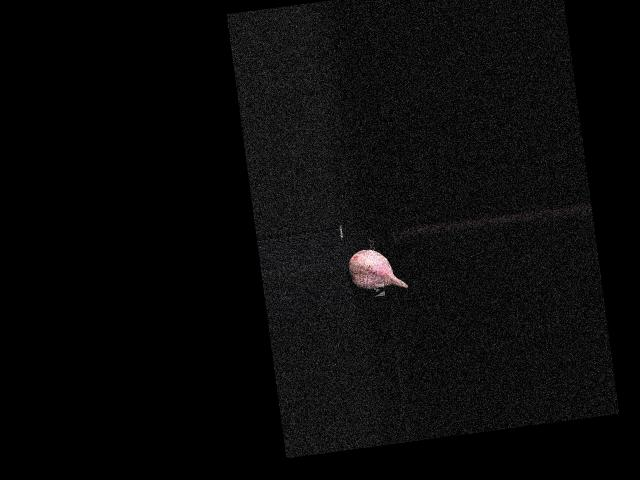beet: (346, 244, 407, 294)
